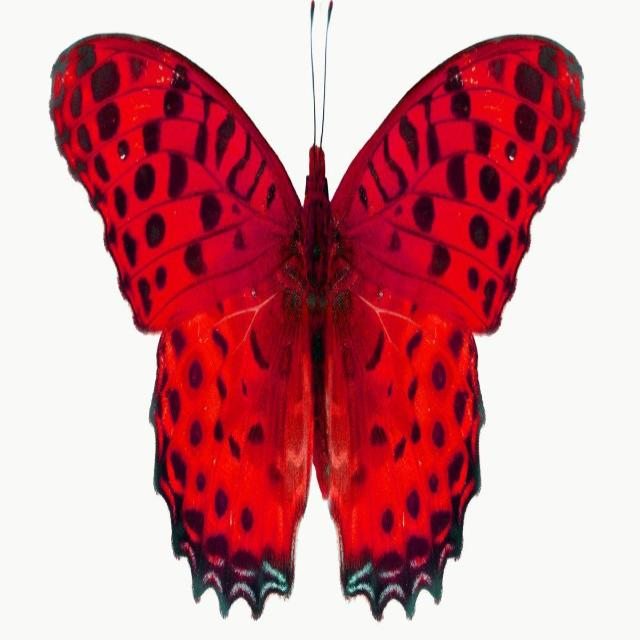butterfly: (59, 19, 560, 614)
